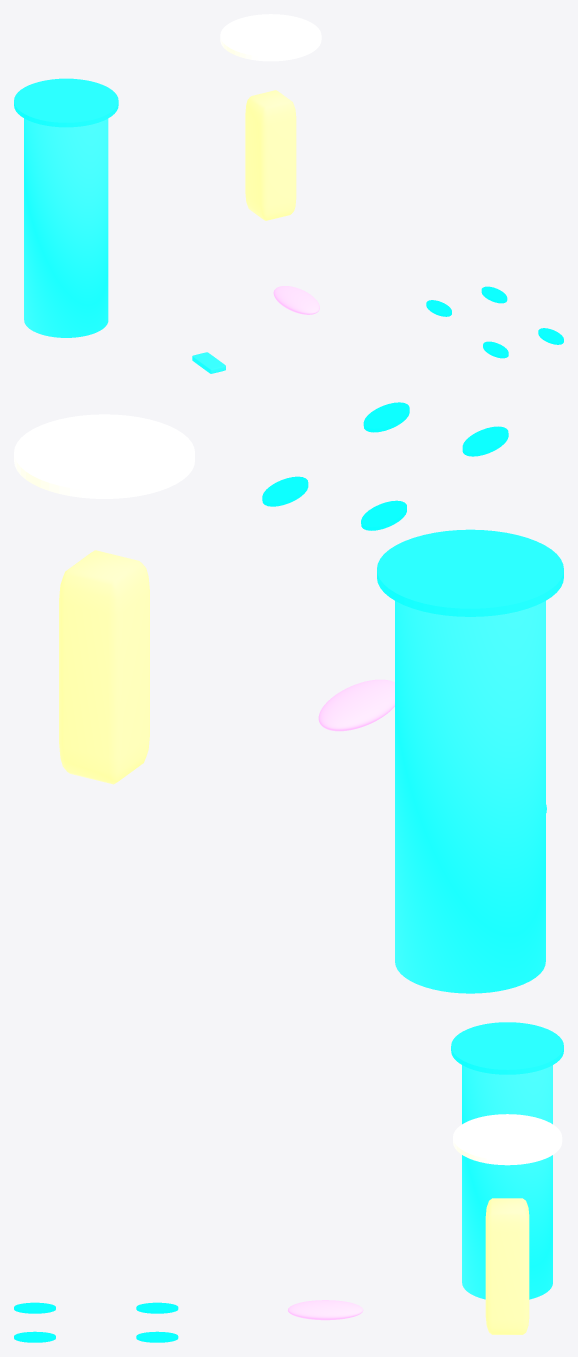
The model's file is WonderWorld_OpenWorld_Sandbox.fbx.
3 views of the same model, one above another, from view 1: azimuth 30°, elevation 25°; view 2: azimuth 150°, elevation 25°; view 3: azimuth 270°, elevation 25° (orthographic). The views are drawn at different scales.
Parts seen in each view (by area): view 1: SM_MamaWonderTower_OpenWorld, SM_PapaWonderTower_OpenWorld, SM_MamaTower_FlyingCar_SkyPad, SM_PapaTower_FlyingCar_SkyPad, SM_PurpleCity_FlyingCar, SM_SoundMagic_StreetCruiser; view 2: SM_MamaWonderTower_OpenWorld, SM_PapaWonderTower_OpenWorld, SM_MamaTower_FlyingCar_SkyPad, SM_PapaTower_FlyingCar_SkyPad, SM_PurpleCity_FlyingCar, SM_FlyingCar_Thruster_1, SM_FlyingCar_Thruster_2, SM_FlyingCar_Thruster_4, SM_FlyingCar_Thruster_3; view 3: SM_MamaWonderTower_OpenWorld, SM_PapaWonderTower_OpenWorld, SM_MamaTower_FlyingCar_SkyPad, SM_PapaTower_FlyingCar_SkyPad, SM_PurpleCity_FlyingCar, SM_FlyingCar_Thruster_3, SM_FlyingCar_Thruster_1, SM_FlyingCar_Thruster_4, SM_FlyingCar_Thruster_2.
Boxes of the visible parts, bbox=[...] form: SM_MamaWonderTower_OpenWorld: bbox=[24, 118, 108, 337]; SM_PapaWonderTower_OpenWorld: bbox=[245, 90, 296, 220]; SM_MamaTower_FlyingCar_SkyPad: bbox=[14, 78, 118, 127]; SM_PapaTower_FlyingCar_SkyPad: bbox=[220, 14, 321, 61]; SM_PurpleCity_FlyingCar: bbox=[273, 286, 319, 314]; SM_SoundMagic_StreetCruiser: bbox=[192, 352, 225, 373]; SM_MamaWonderTower_OpenWorld: bbox=[395, 601, 545, 993]; SM_PapaWonderTower_OpenWorld: bbox=[59, 550, 149, 784]; SM_MamaTower_FlyingCar_SkyPad: bbox=[377, 529, 563, 616]; SM_PapaTower_FlyingCar_SkyPad: bbox=[14, 414, 194, 498]; SM_PurpleCity_FlyingCar: bbox=[318, 679, 394, 731]; SM_FlyingCar_Thruster_1: bbox=[462, 426, 508, 456]; SM_FlyingCar_Thruster_2: bbox=[363, 402, 409, 432]; SM_FlyingCar_Thruster_4: bbox=[262, 476, 308, 506]; SM_FlyingCar_Thruster_3: bbox=[361, 500, 406, 530]; SM_MamaWonderTower_OpenWorld: bbox=[462, 1065, 552, 1299]; SM_PapaWonderTower_OpenWorld: bbox=[485, 1198, 529, 1334]; SM_MamaTower_FlyingCar_SkyPad: bbox=[451, 1022, 563, 1074]; SM_PapaTower_FlyingCar_SkyPad: bbox=[453, 1114, 562, 1165]; SM_PurpleCity_FlyingCar: bbox=[288, 1300, 363, 1320]; SM_FlyingCar_Thruster_3: bbox=[136, 1302, 178, 1313]; SM_FlyingCar_Thruster_1: bbox=[14, 1302, 55, 1313]; SM_FlyingCar_Thruster_4: bbox=[136, 1331, 178, 1342]; SM_FlyingCar_Thruster_2: bbox=[14, 1331, 55, 1342].
Size of the model in its own units: 43.73 by 30.7 by 60.43.
